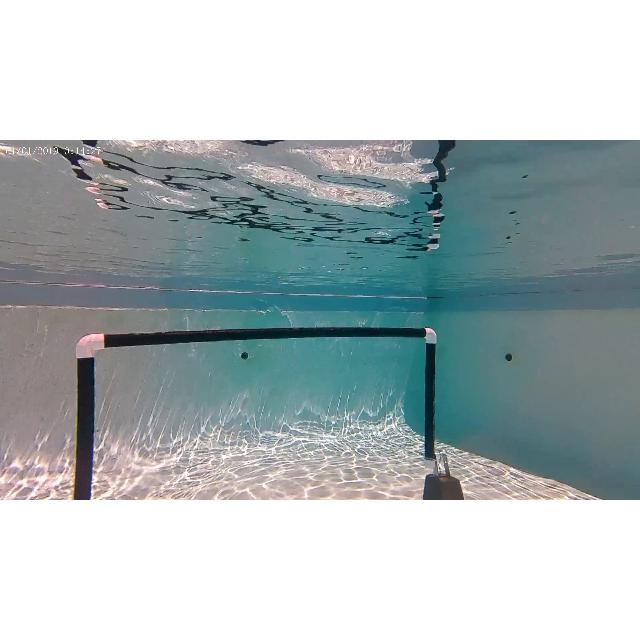prequal gate: (71, 326, 436, 499)
prequal gate leg l: (70, 332, 106, 500)
prequal gate leg r: (413, 322, 463, 500)
